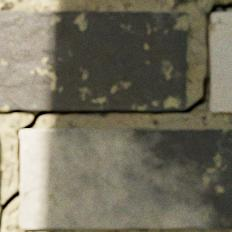brick: (20, 128, 231, 228), (0, 11, 187, 111), (209, 13, 231, 112)
crack: (0, 1, 231, 230)
